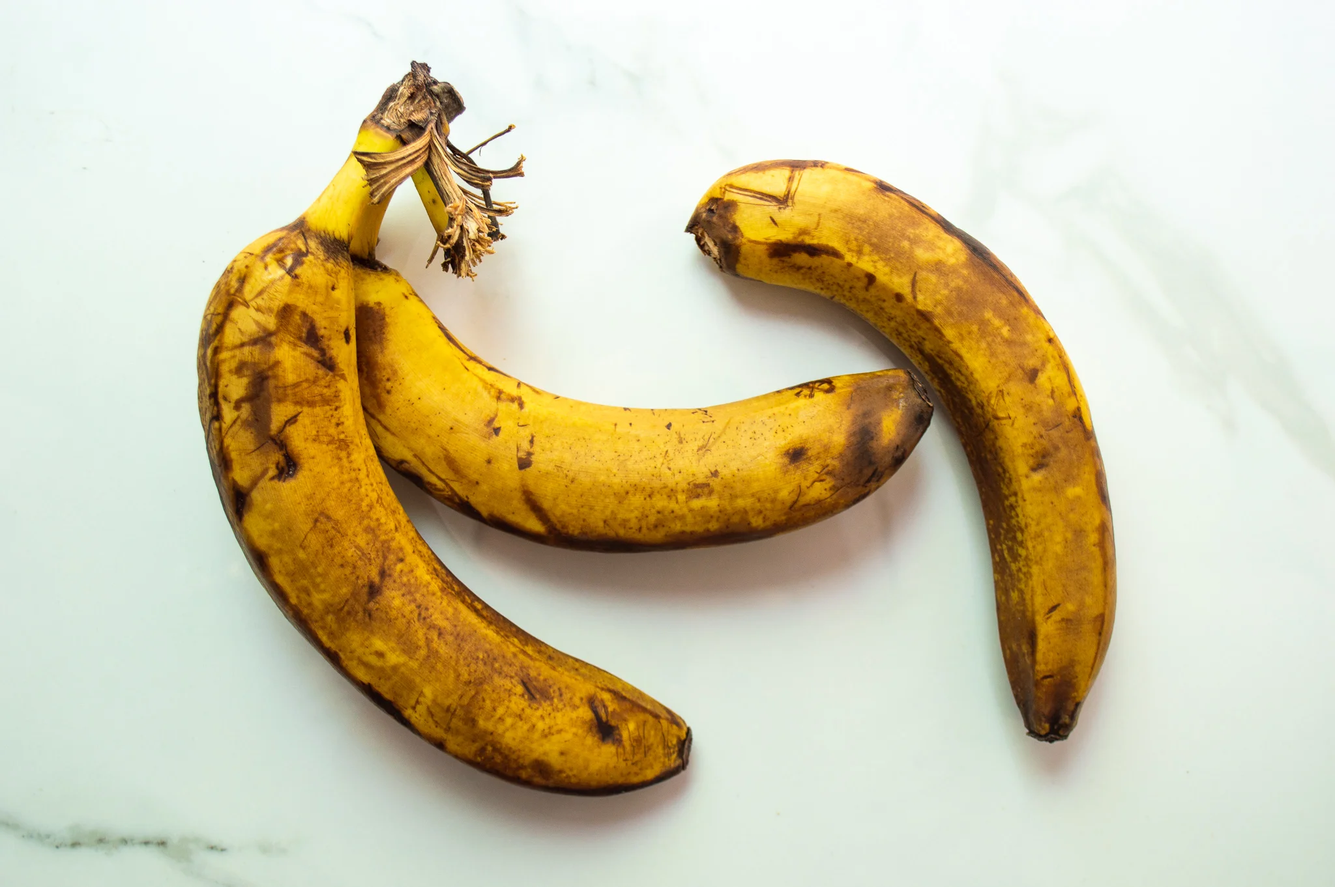banana: (180, 45, 928, 809), (690, 124, 1152, 735)
